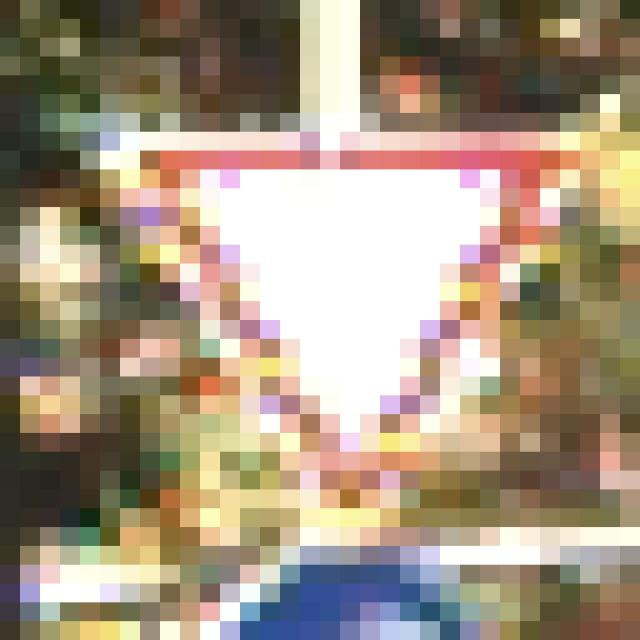Give Way: (101, 114, 541, 547)
